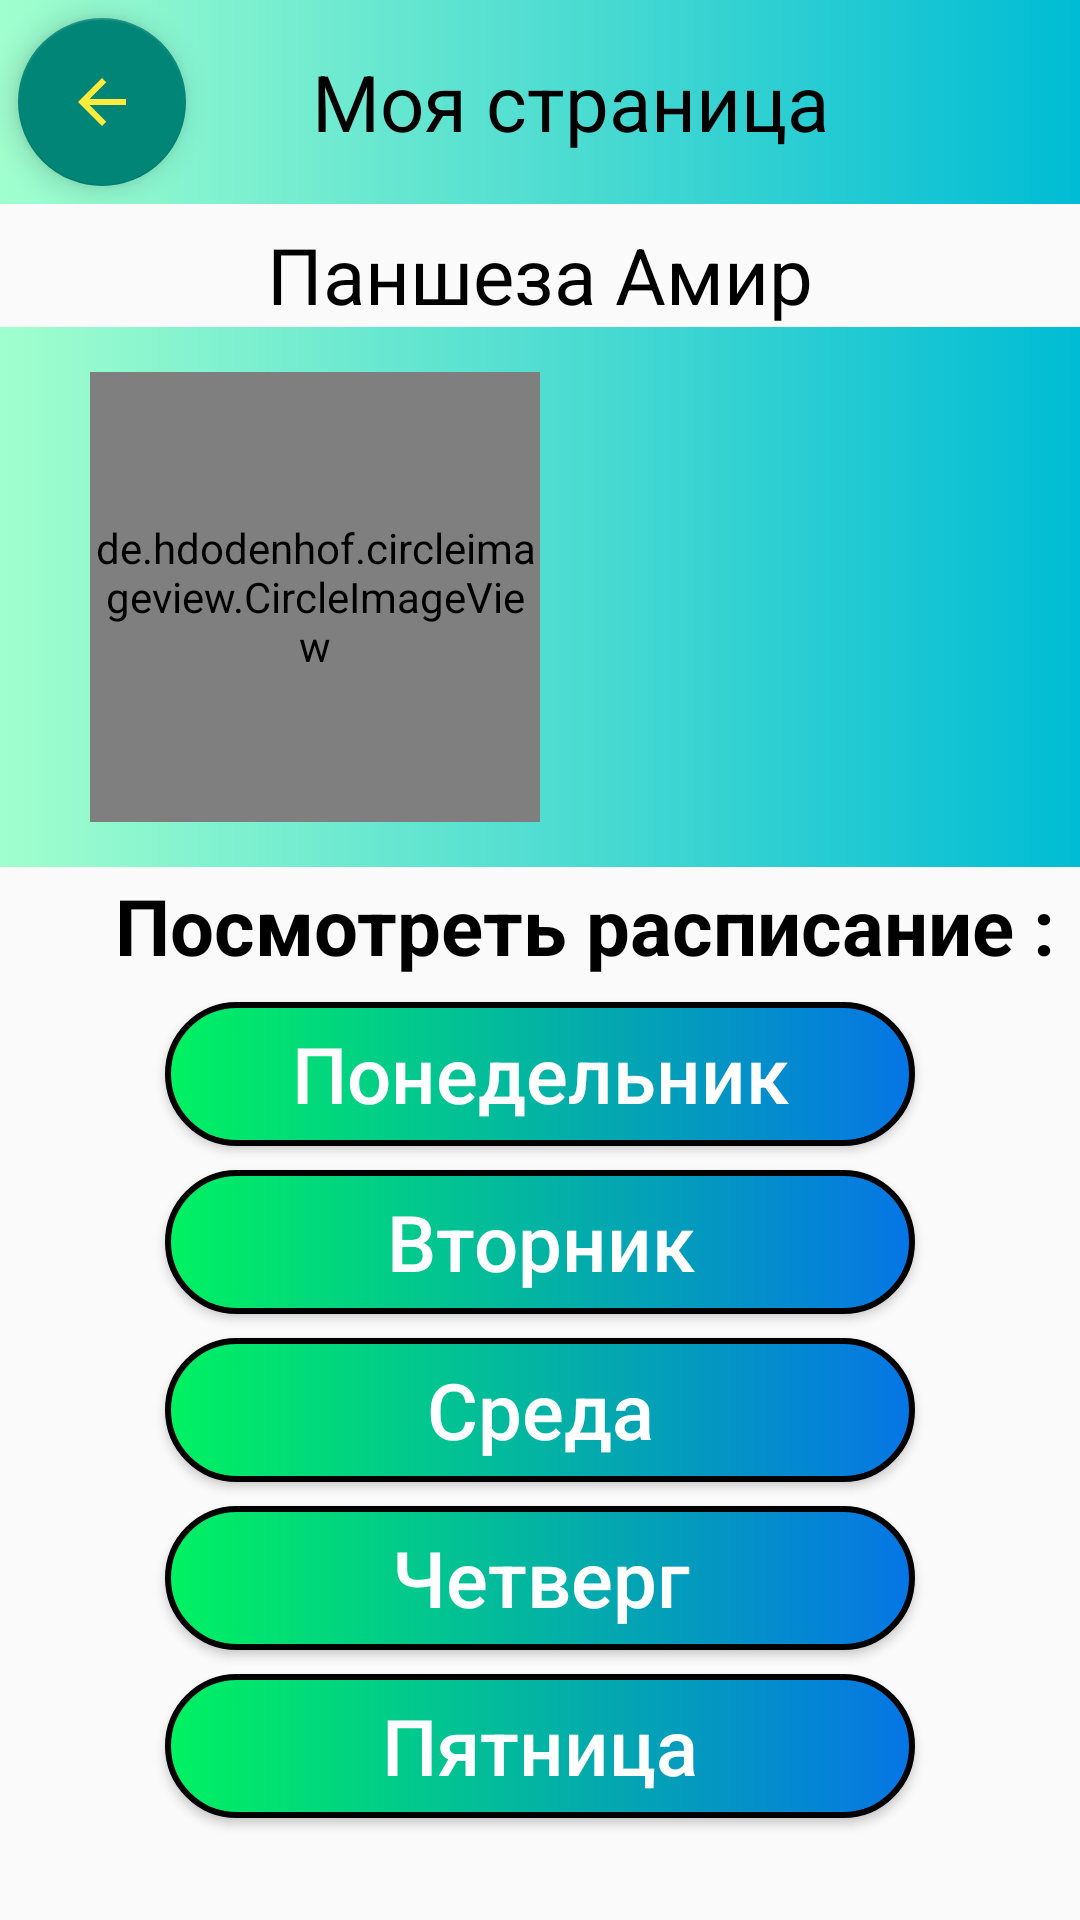

Named icons in this screenshot (1080 × 1920) and their centers, (x=x, y=y):
arrow back: (x=102, y=102)
